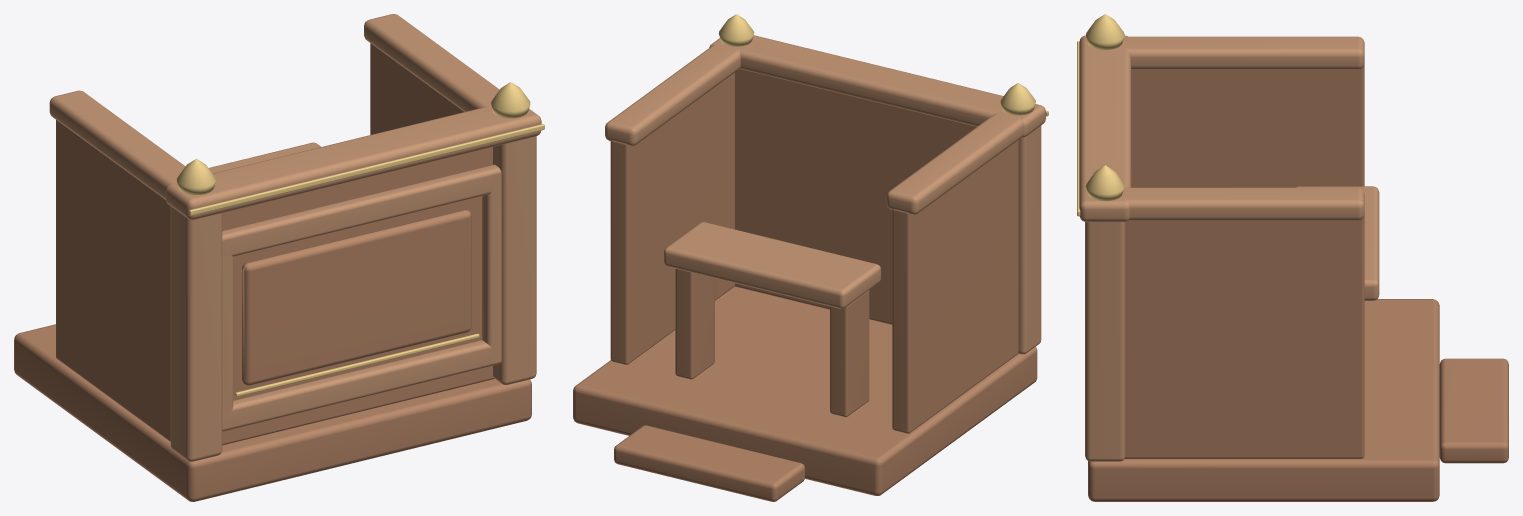
Rendered from witness_stand.glb.
3 views of the same model, side by side, from view 1: azimuth 30°, elevation 25°; view 2: azimuth 150°, elevation 25°; view 3: azimuth 270°, elevation 25° (orthographic). The views are drawn at different scales.
Parts seen in each view (by area): view 1: fpfield, side-1, platform, front, cpost-1, rail_f, cpost1, fprl1, fprl0, rail_s-1, rail_s1, side1 (+7 smaller); view 2: platform, front, side-1, side1, bench, rail_f, step, rail_s-1, cpost-1, rail_s1, bleg-1, bleg1 (+2 smaller); view 3: side1, side-1, platform, cpost1, rail_f, rail_s1, rail_s-1, step, bench, cfin-1, cfin1, bead.
Part boxes in pixels (left/top/right/bottom): fpfield: left=242, top=210, right=471, bottom=385; side-1: left=56, top=120, right=170, bottom=441; platform: left=14, top=324, right=531, bottom=501; front: left=222, top=147, right=494, bottom=445; cpost-1: left=170, top=185, right=222, bottom=461; rail_f: left=165, top=107, right=541, bottom=219; cpost1: left=491, top=108, right=536, bottom=384; fprl1: left=222, top=164, right=499, bottom=256; fprl0: left=222, top=340, right=499, bottom=431; rail_s-1: left=49, top=90, right=185, bottom=199; rail_s1: left=364, top=14, right=499, bottom=111; side1: left=370, top=43, right=463, bottom=134; platform: left=573, top=286, right=1037, bottom=495; front: left=735, top=69, right=976, bottom=324; side-1: left=892, top=140, right=1018, bottom=433; side1: left=610, top=72, right=734, bottom=364; bench: left=664, top=222, right=880, bottom=308; rail_f: left=709, top=35, right=1045, bottom=137; step: left=614, top=425, right=804, bottom=501; rail_s-1: left=886, top=111, right=1022, bottom=214; cpost-1: left=1000, top=106, right=1041, bottom=354; rail_s1: left=605, top=44, right=740, bottom=146; bleg-1: left=830, top=290, right=869, bottom=416; bleg1: left=675, top=268, right=714, bottom=379; side1: left=1124, top=215, right=1364, bottom=458; side-1: left=1131, top=64, right=1364, bottom=187; platform: left=1088, top=299, right=1439, bottom=501; cpost1: left=1085, top=198, right=1125, bottom=461; rail_f: left=1079, top=35, right=1131, bottom=222; rail_s1: left=1121, top=187, right=1364, bottom=220; rail_s-1: left=1123, top=36, right=1364, bottom=69; step: left=1439, top=358, right=1508, bottom=463; bench: left=1295, top=186, right=1379, bottom=300; cfin-1: left=1086, top=14, right=1124, bottom=49; cfin1: left=1085, top=165, right=1124, bottom=200; bead: left=1077, top=41, right=1080, bottom=216.
Size of the model in its own units: 0.7 by 0.635 by 0.749.
